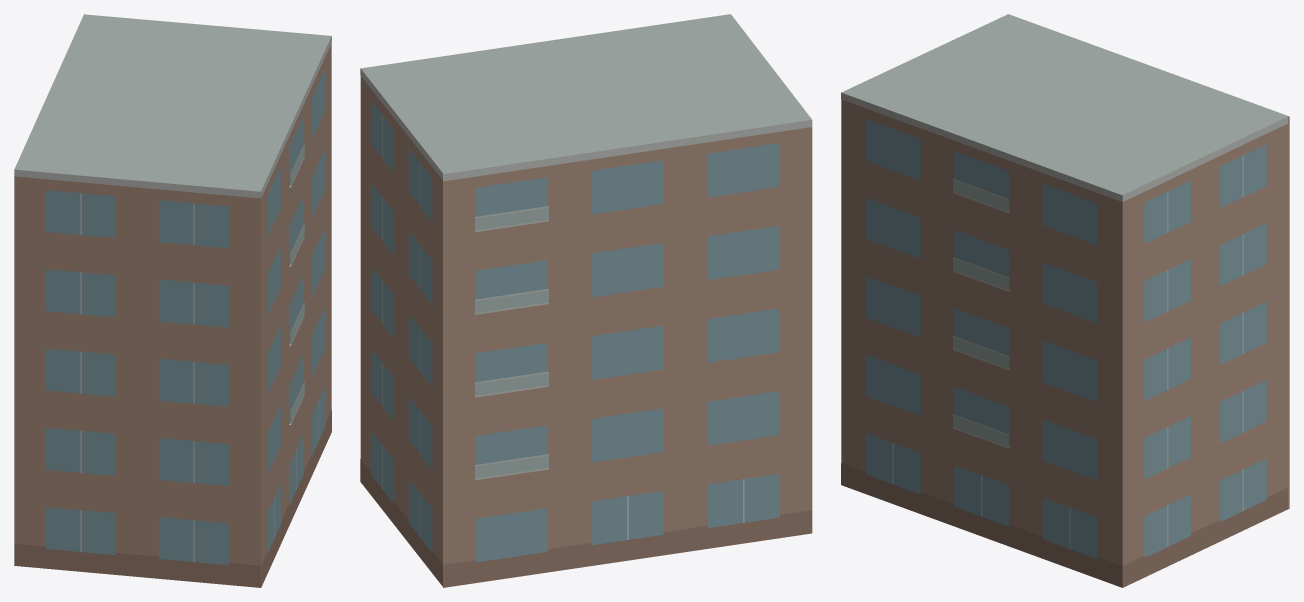
File: survey-upis-32611715.glb
3 views of the same model, side by side, from view 1: azimuth 30°, elevation 25°; view 2: azimuth 150°, elevation 25°; view 3: azimuth 270°, elevation 25° (orthographic). The views are drawn at different scales.
Parts seen in each view (by area): view 1: survey-upis-32611715.tmp; view 2: survey-upis-32611715.tmp; view 3: survey-upis-32611715.tmp.
Boxes of the visible parts, x1=… form: survey-upis-32611715.tmp: x1=14, y1=14, x2=331, y2=587; survey-upis-32611715.tmp: x1=360, y1=14, x2=812, y2=587; survey-upis-32611715.tmp: x1=841, y1=14, x2=1289, y2=587.
Size of the model in its own units: 14.13 by 14.25 by 14.77.
